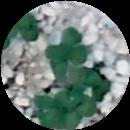Basil: (34, 96, 60, 128), (58, 94, 83, 127), (62, 28, 87, 60), (67, 89, 95, 117), (17, 8, 40, 42), (45, 46, 71, 76), (67, 68, 103, 84), (91, 79, 112, 103)
